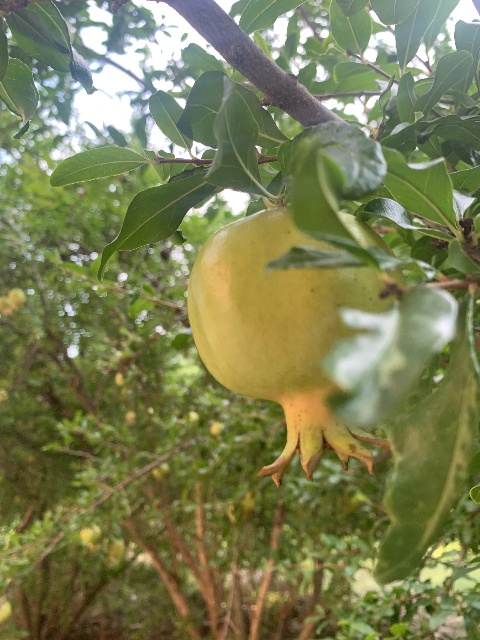mid-growth: (186, 206, 398, 488)
